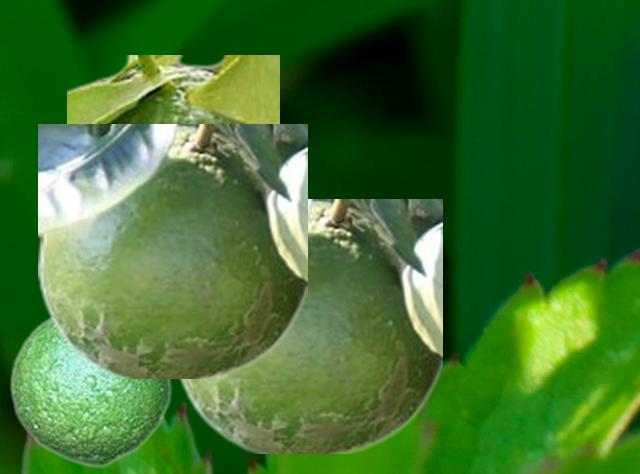dalandan: (38, 124, 306, 377), (175, 199, 441, 452), (8, 317, 171, 467), (67, 55, 278, 123)
